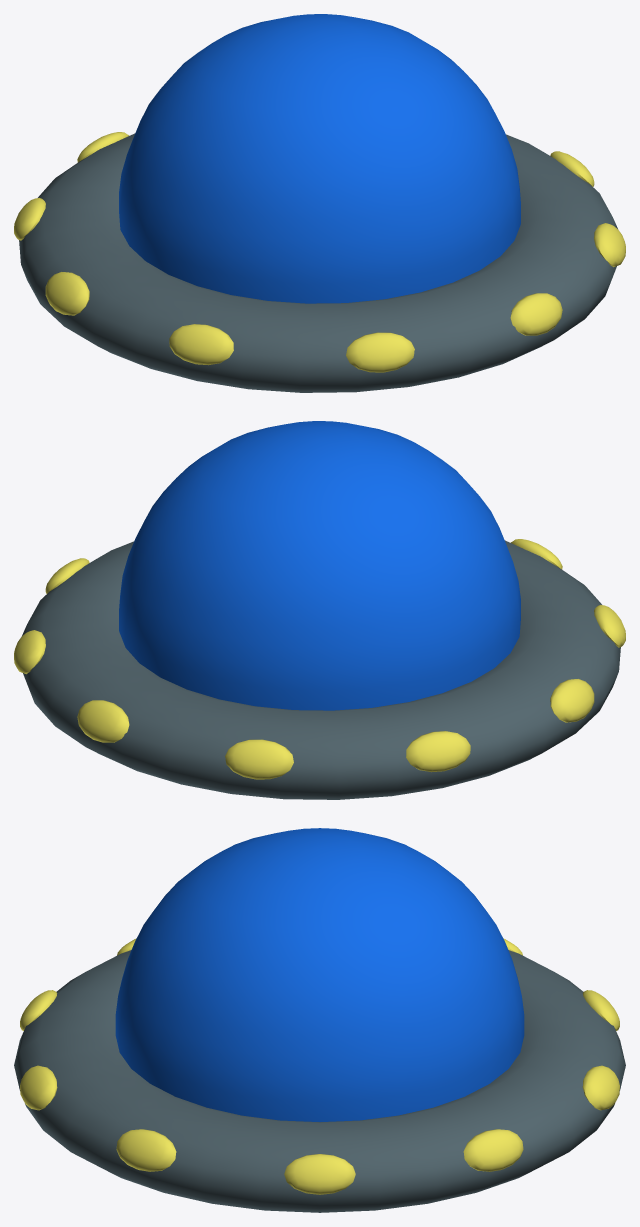
The model's file is UFO.fbx.
3 views of the same model, one above another, from view 1: azimuth 30°, elevation 25°; view 2: azimuth 150°, elevation 25°; view 3: azimuth 270°, elevation 25° (orthographic).
Visible parts, largest first — view 1: UFO; view 2: UFO; view 3: UFO.
Part boxes in pixels (<box>): UFO: <box>14,14,625,392</box>; UFO: <box>14,421,625,799</box>; UFO: <box>14,828,625,1212</box>.
Bounding box in the file's own units: 157 × 71.1 × 154.
